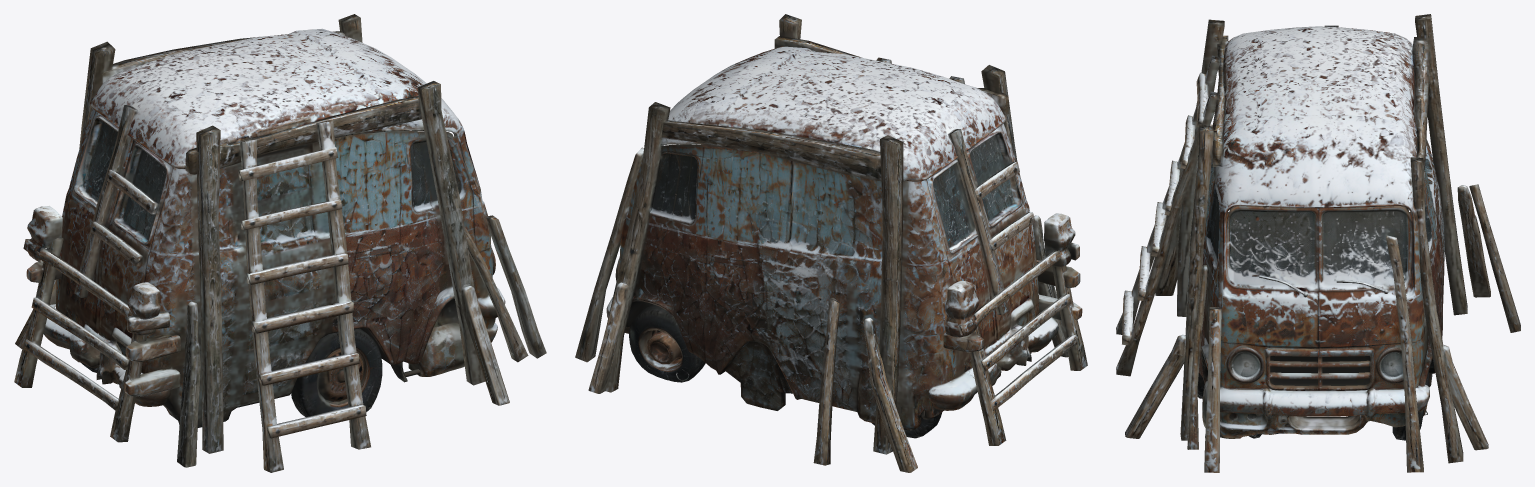
The picture shows the model from 3 angles, left to right: view 1: azimuth 30°, elevation 25°; view 2: azimuth 150°, elevation 25°; view 3: azimuth 270°, elevation 25°; orthographic projection. The views are drawn at different scales.
Parts seen in each view (by area): view 1: tripo_88f7560c_27bd_4b86_9f1e_2505bfd08d0b; view 2: tripo_88f7560c_27bd_4b86_9f1e_2505bfd08d0b; view 3: tripo_88f7560c_27bd_4b86_9f1e_2505bfd08d0b.
Boxes of the visible parts, bbox=[...] form: tripo_88f7560c_27bd_4b86_9f1e_2505bfd08d0b: bbox=[14, 14, 546, 472]; tripo_88f7560c_27bd_4b86_9f1e_2505bfd08d0b: bbox=[575, 14, 1087, 472]; tripo_88f7560c_27bd_4b86_9f1e_2505bfd08d0b: bbox=[1116, 14, 1520, 472].
Bounding box in the file's own units: 0.9995 × 0.7124 × 0.8296.
Materials: 1 (1 with a texture image).
